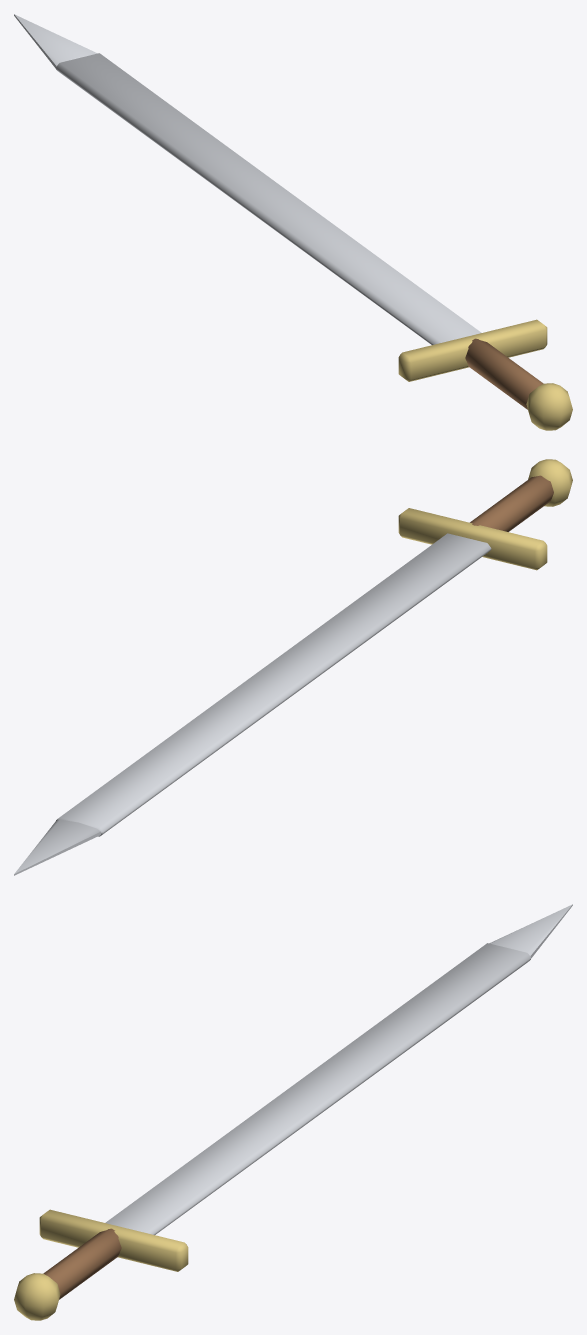
The model's file is weapons_sword.glb.
3 renders of one model, top to bottom at view 1: azimuth 30°, elevation 25°; view 2: azimuth 150°, elevation 25°; view 3: azimuth 330°, elevation 25°, orthographic.
Parts seen in each view (by area): view 1: weapons_sword; view 2: weapons_sword; view 3: weapons_sword.
Boxes of the visible parts, x1,y1,x2,y2 form: weapons_sword: (14, 14, 572, 430); weapons_sword: (14, 459, 572, 875); weapons_sword: (14, 904, 572, 1320).
Bounding box in the file's own units: 0.15 × 0.044 × 0.9997.
